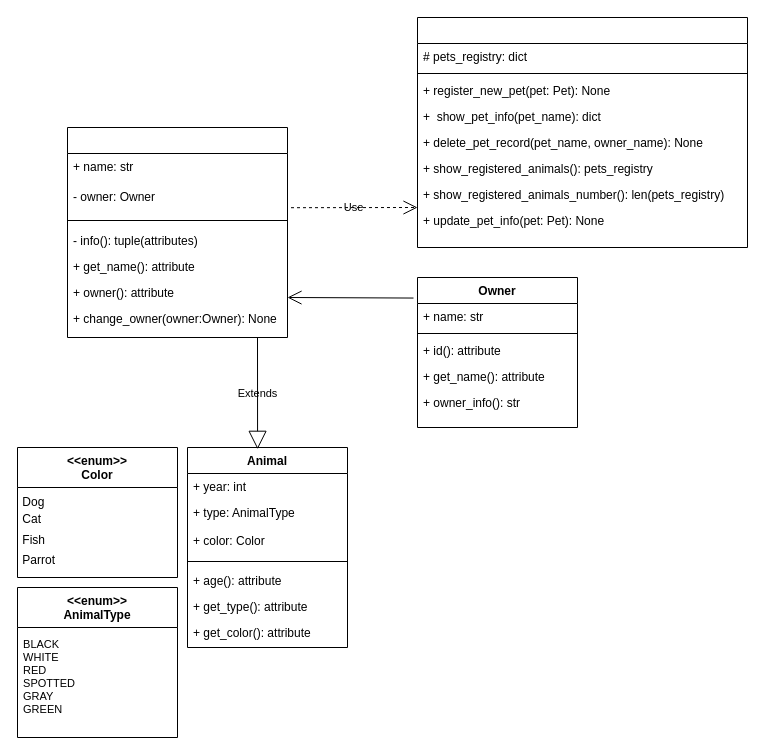
The diagram is 765 pixels wide and 755 high, and some of its shapes have lost their labels. Here are the shapes that lost their labels. From the top down, the box of each, then its label:
(416, 16, 748, 248): PetRegistry
(66, 126, 288, 338): Pet
